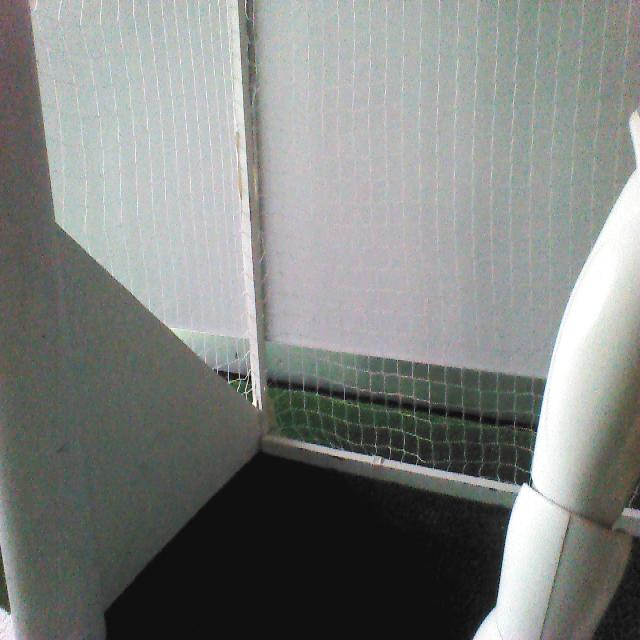goalpost: (2, 0, 106, 637)
